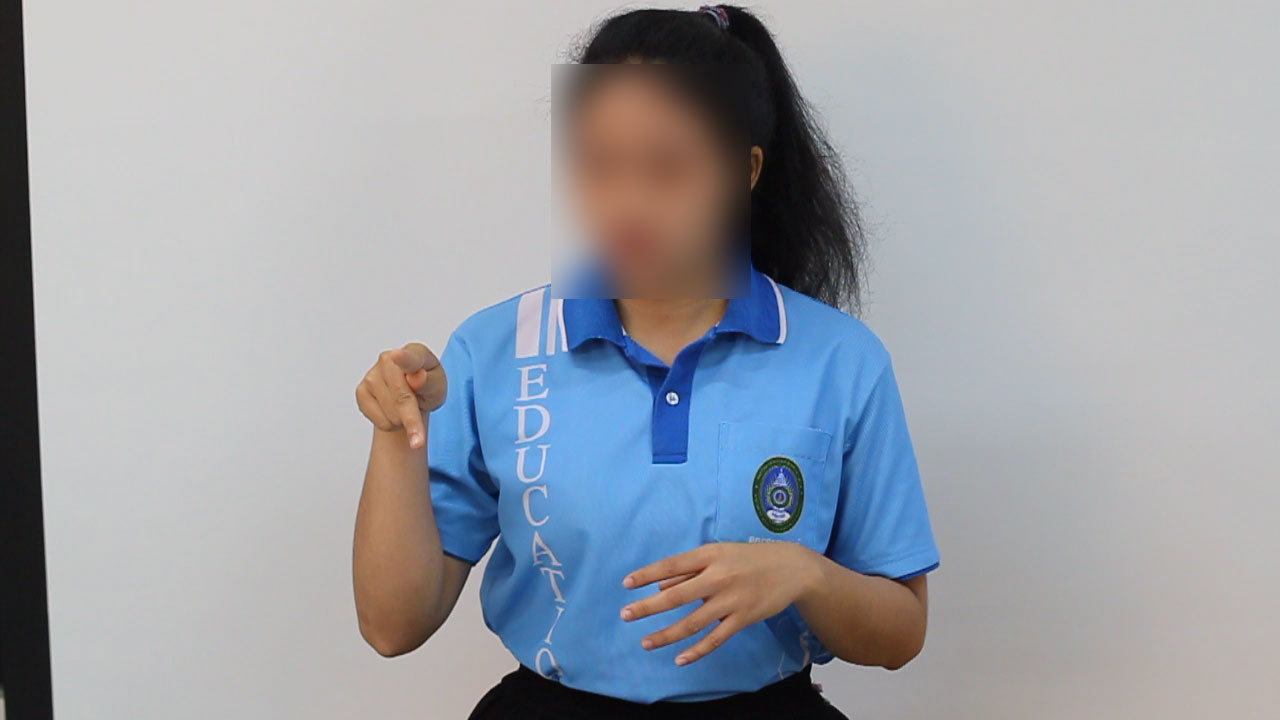por: (336, 317, 462, 475)
